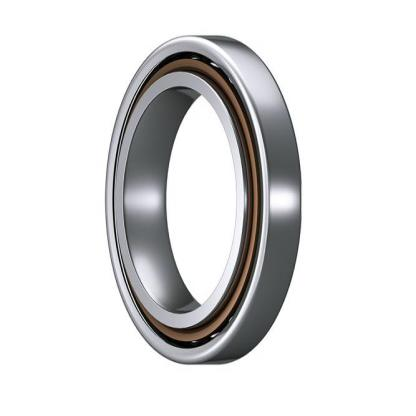FOD: (101, 29, 304, 371)
